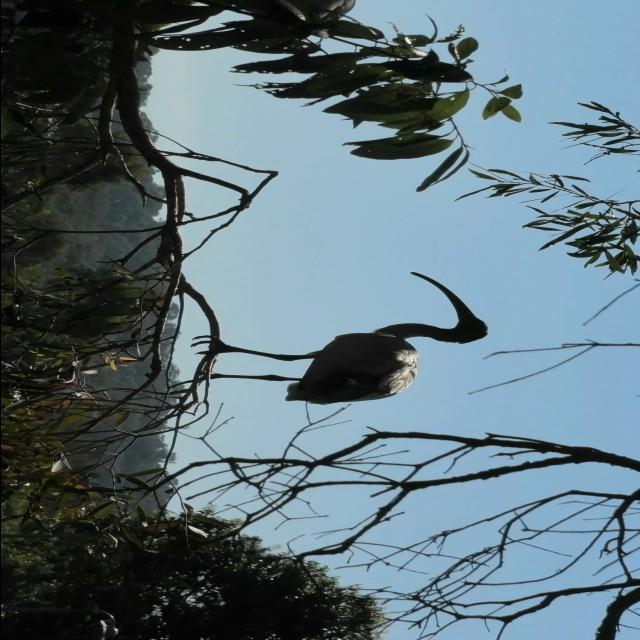Birds-Ibis: (168, 271, 492, 407), (224, 0, 360, 41)
